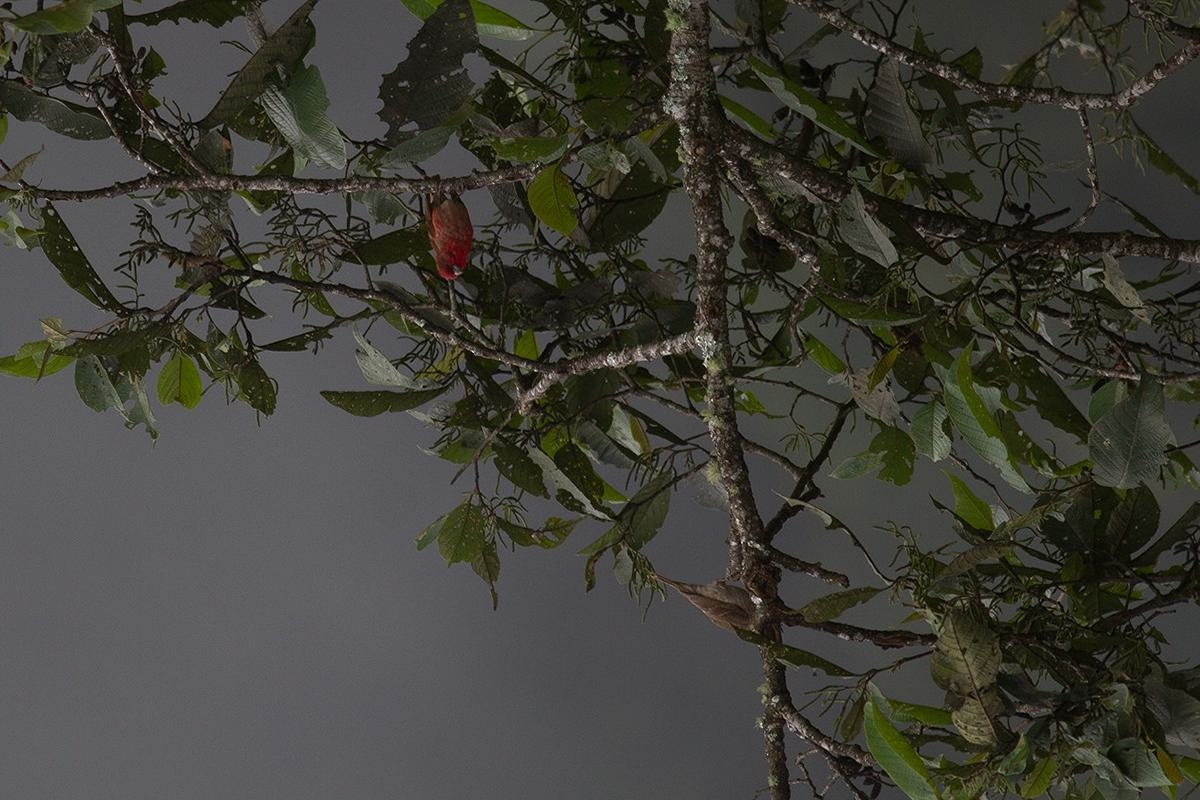rosefinch: (419, 185, 493, 282)
